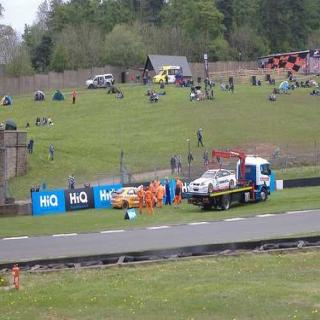Towing_truck: (183, 147, 272, 210)
